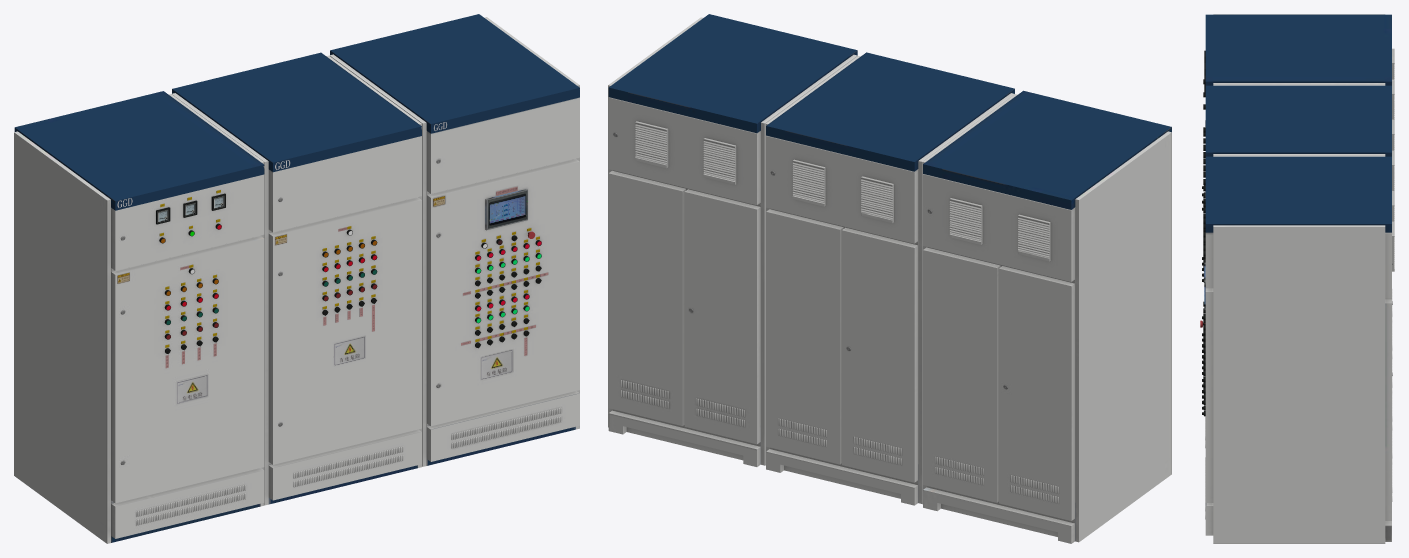
Rendered from LX_lengquezhongkongxitong.glb.
The picture shows the model from 3 angles, left to right: view 1: azimuth 30°, elevation 25°; view 2: azimuth 150°, elevation 25°; view 3: azimuth 270°, elevation 25°; orthographic projection. The views are drawn at different scales.
Size of the model in its own units: 2.9 by 2.02 by 1.12.
Materials: 3 (3 with a texture image).
